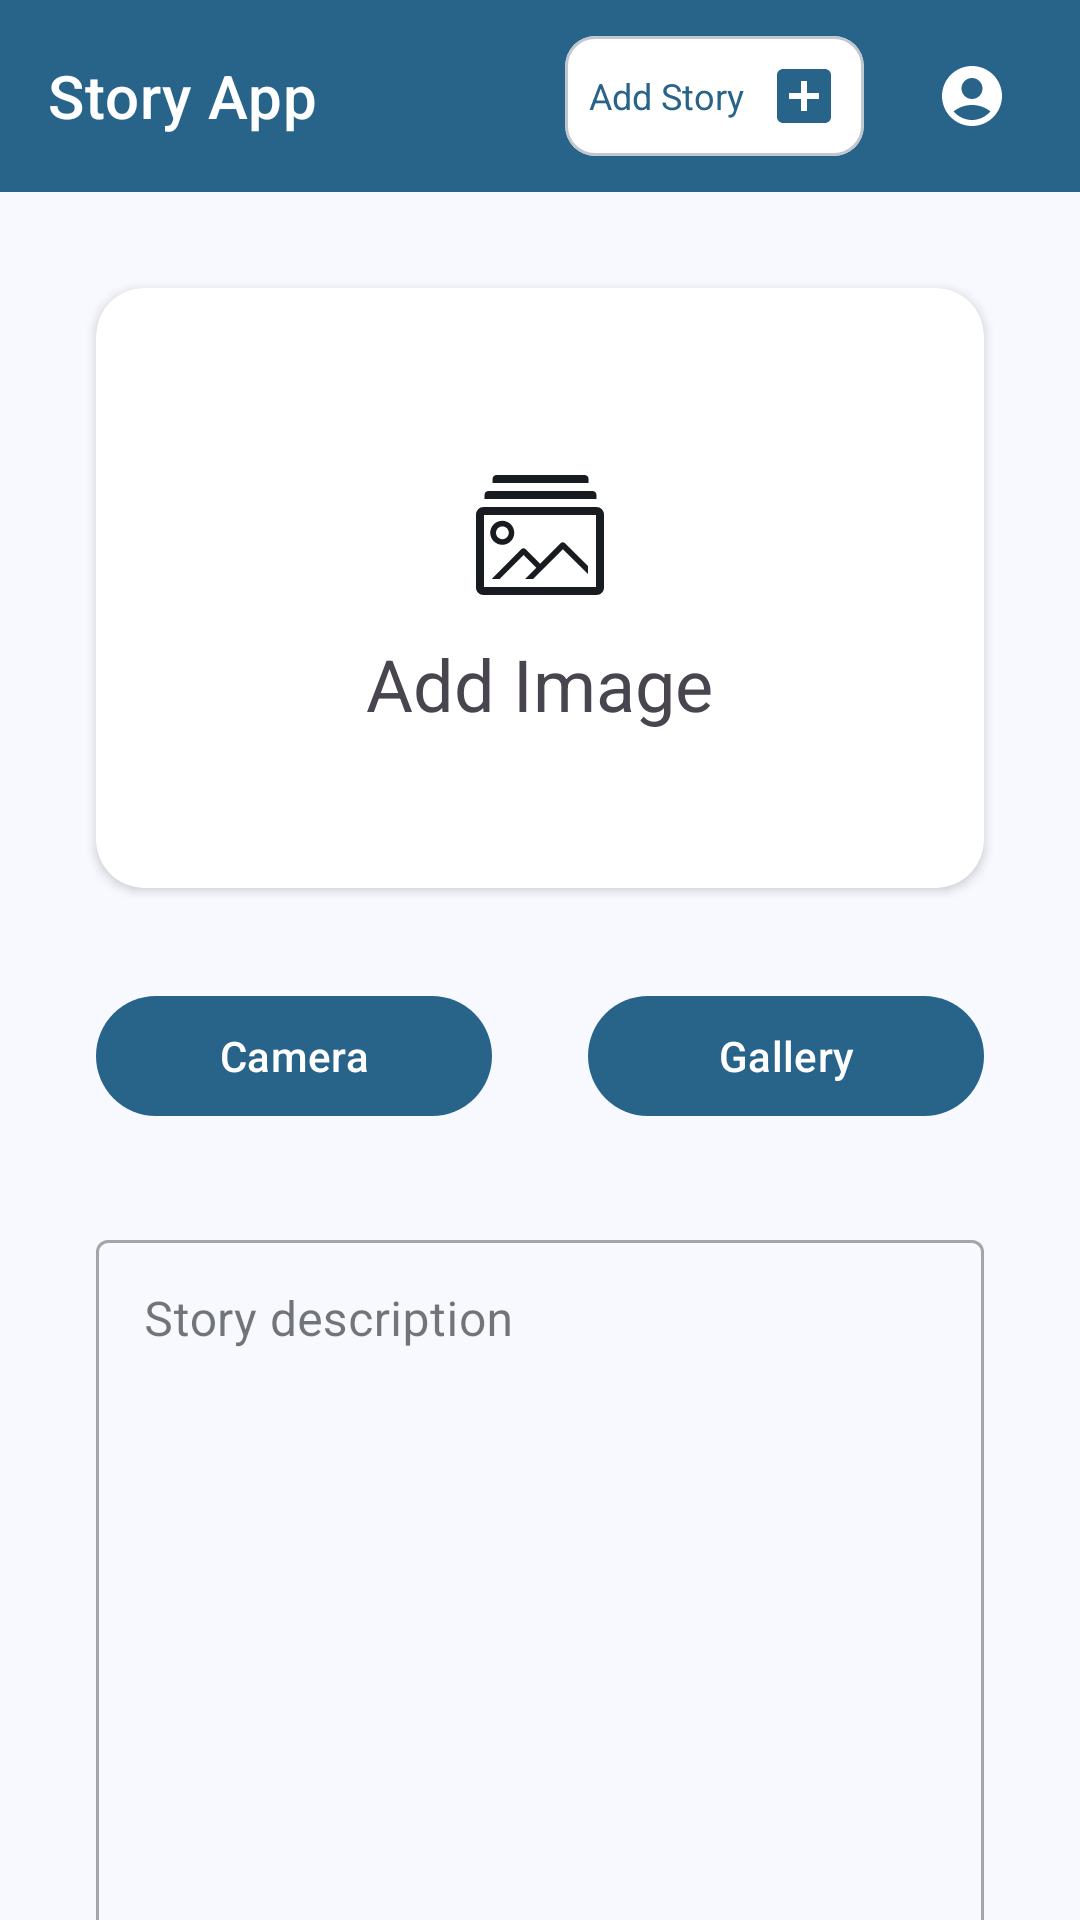

Icons on this 1080 x 1920 Android screen, each with its box as bbox(x1, y1, x2, y2):
Action Profile: bbox(942, 66, 1002, 126)
add box: bbox(777, 69, 831, 123)
gallery: bbox(476, 475, 604, 595)
